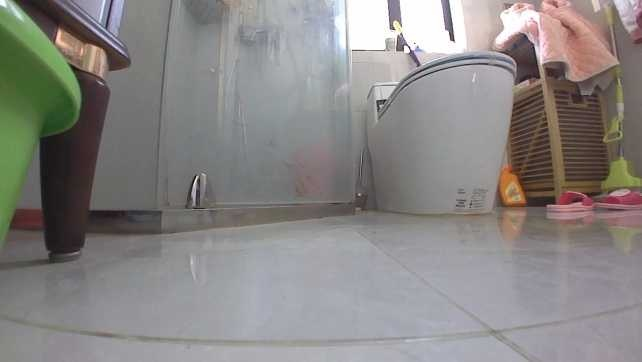slipper: (593, 185, 641, 211), (544, 189, 592, 215)
toilet: (362, 47, 519, 219)
